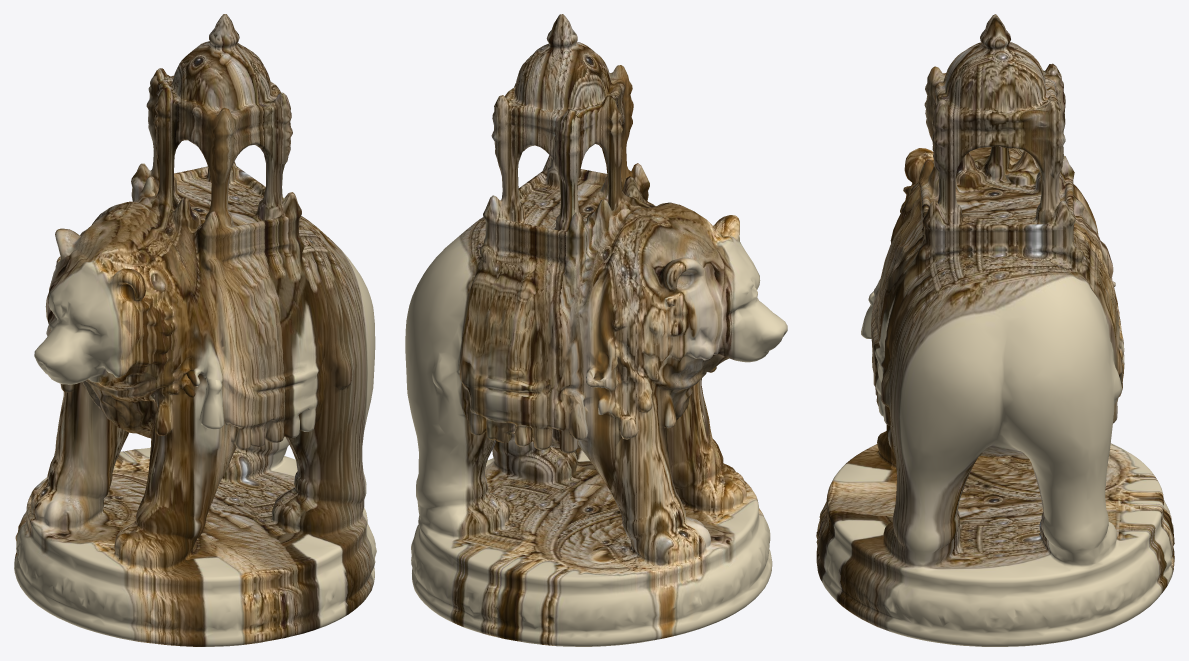
Rendered from gaja.glb.
3 views of the same model, side by side, from view 1: azimuth 30°, elevation 25°; view 2: azimuth 150°, elevation 25°; view 3: azimuth 270°, elevation 25° (orthographic). The views are drawn at different scales.
Visible parts, largest first — view 1: geometry_0; view 2: geometry_0; view 3: geometry_0.
Part boxes in pixels (x1,y1,x2,y2): geometry_0: (14, 14, 376, 646); geometry_0: (405, 14, 787, 646); geometry_0: (816, 14, 1174, 646).
Size of the model in its own units: 1.23 by 1.98 by 1.12.
1 material, 1 textured.
